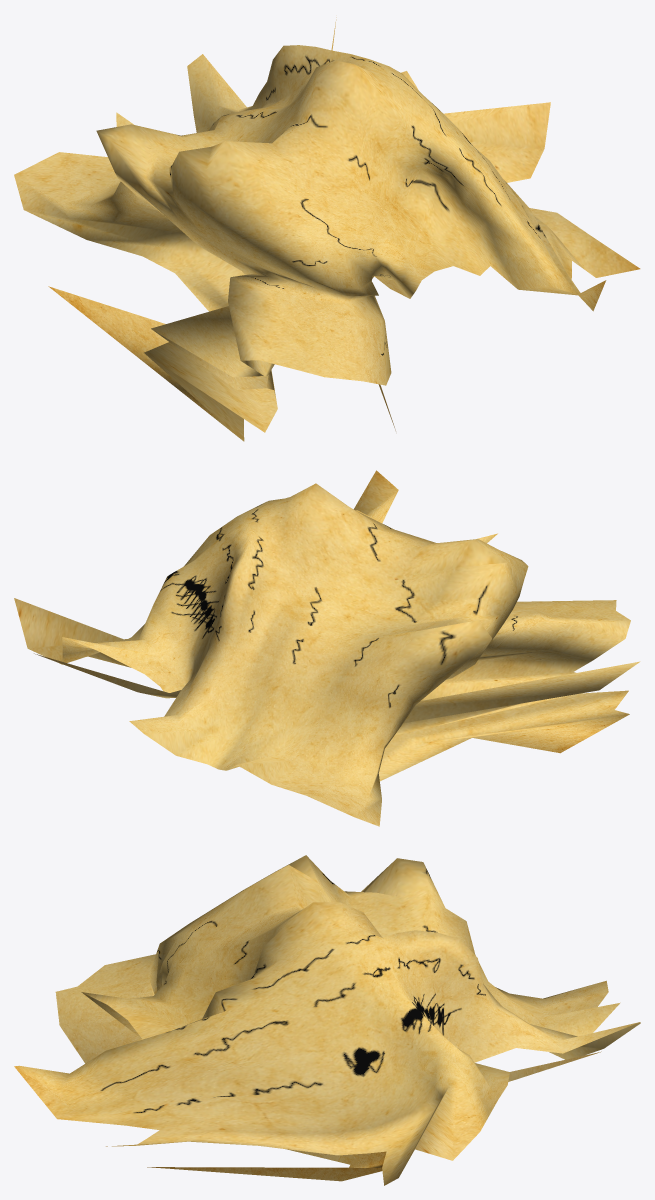
Rendered from Crumbla.fbx.
The picture shows the model from 3 angles, top to bottom: view 1: azimuth 30°, elevation 25°; view 2: azimuth 150°, elevation 25°; view 3: azimuth 270°, elevation 25°; orthographic projection. The views are drawn at different scales.
Visible parts, largest first — view 1: Plane; view 2: Plane; view 3: Plane.
Boxes of the visible parts, left/top/right/bottom form: Plane: left=14, top=17, right=640, bottom=441; Plane: left=14, top=470, right=640, bottom=826; Plane: left=14, top=855, right=640, bottom=1185.
Size of the model in its own units: 201 by 109 by 217.
1 material, 1 textured.
